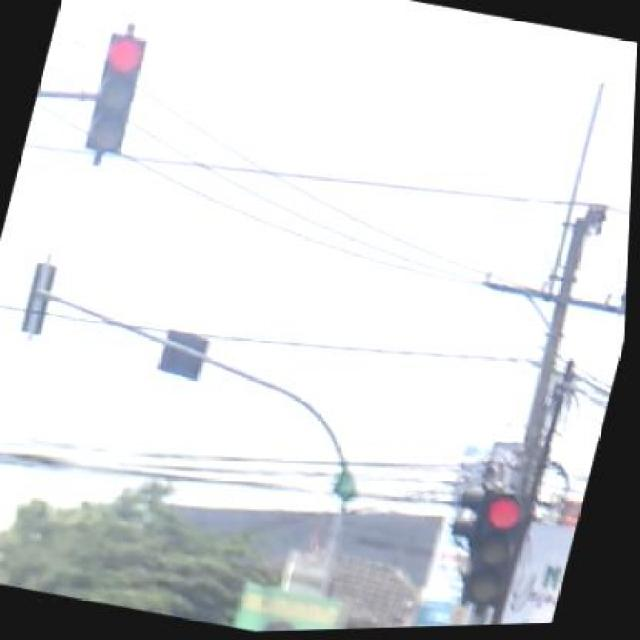red_light: (461, 488, 536, 615), (77, 33, 148, 159)
